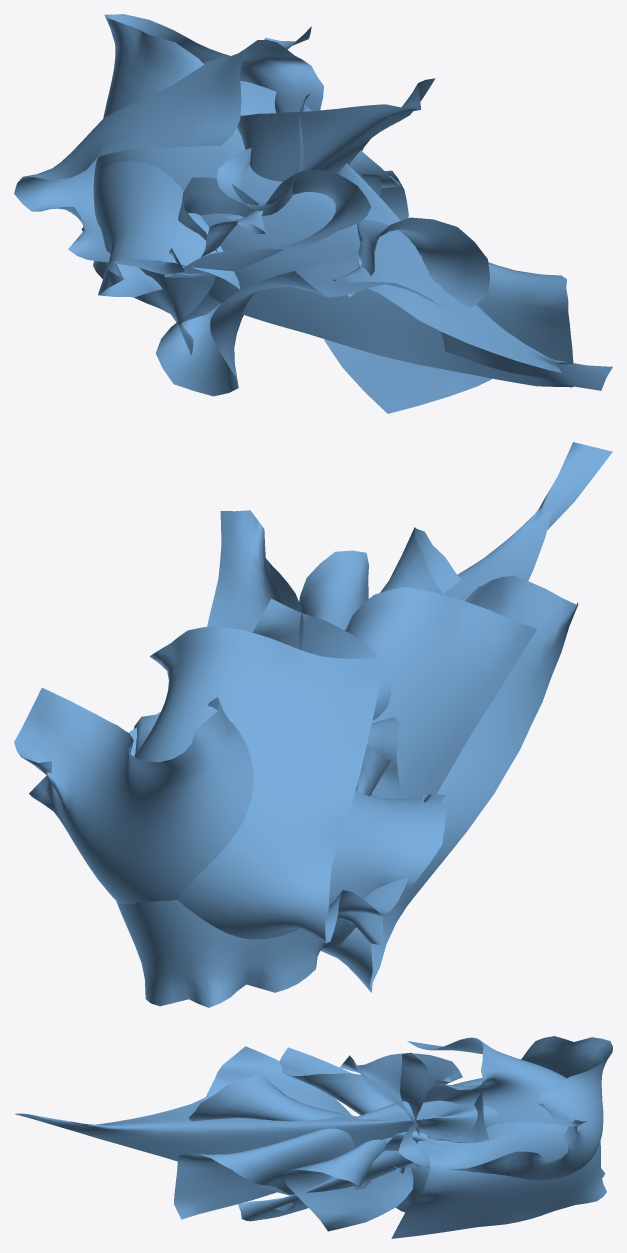
Rendered from smoke_effect_test.glb.
3 views of the same model, one above another, from view 1: azimuth 30°, elevation 25°; view 2: azimuth 150°, elevation 25°; view 3: azimuth 270°, elevation 25° (orthographic). The views are drawn at different scales.
Parts seen in each view (by area): view 1: 3DSMeshMatrix; view 2: 3DSMeshMatrix; view 3: 3DSMeshMatrix.
Boxes of the visible parts, x1=… form: 3DSMeshMatrix: x1=14, y1=14, x2=612, y2=413; 3DSMeshMatrix: x1=14, y1=442, x2=612, y2=1007; 3DSMeshMatrix: x1=15, y1=1036, x2=612, y2=1238.
Bounding box in the file's own units: 158 × 169 × 425.
2 materials, 1 textured.
